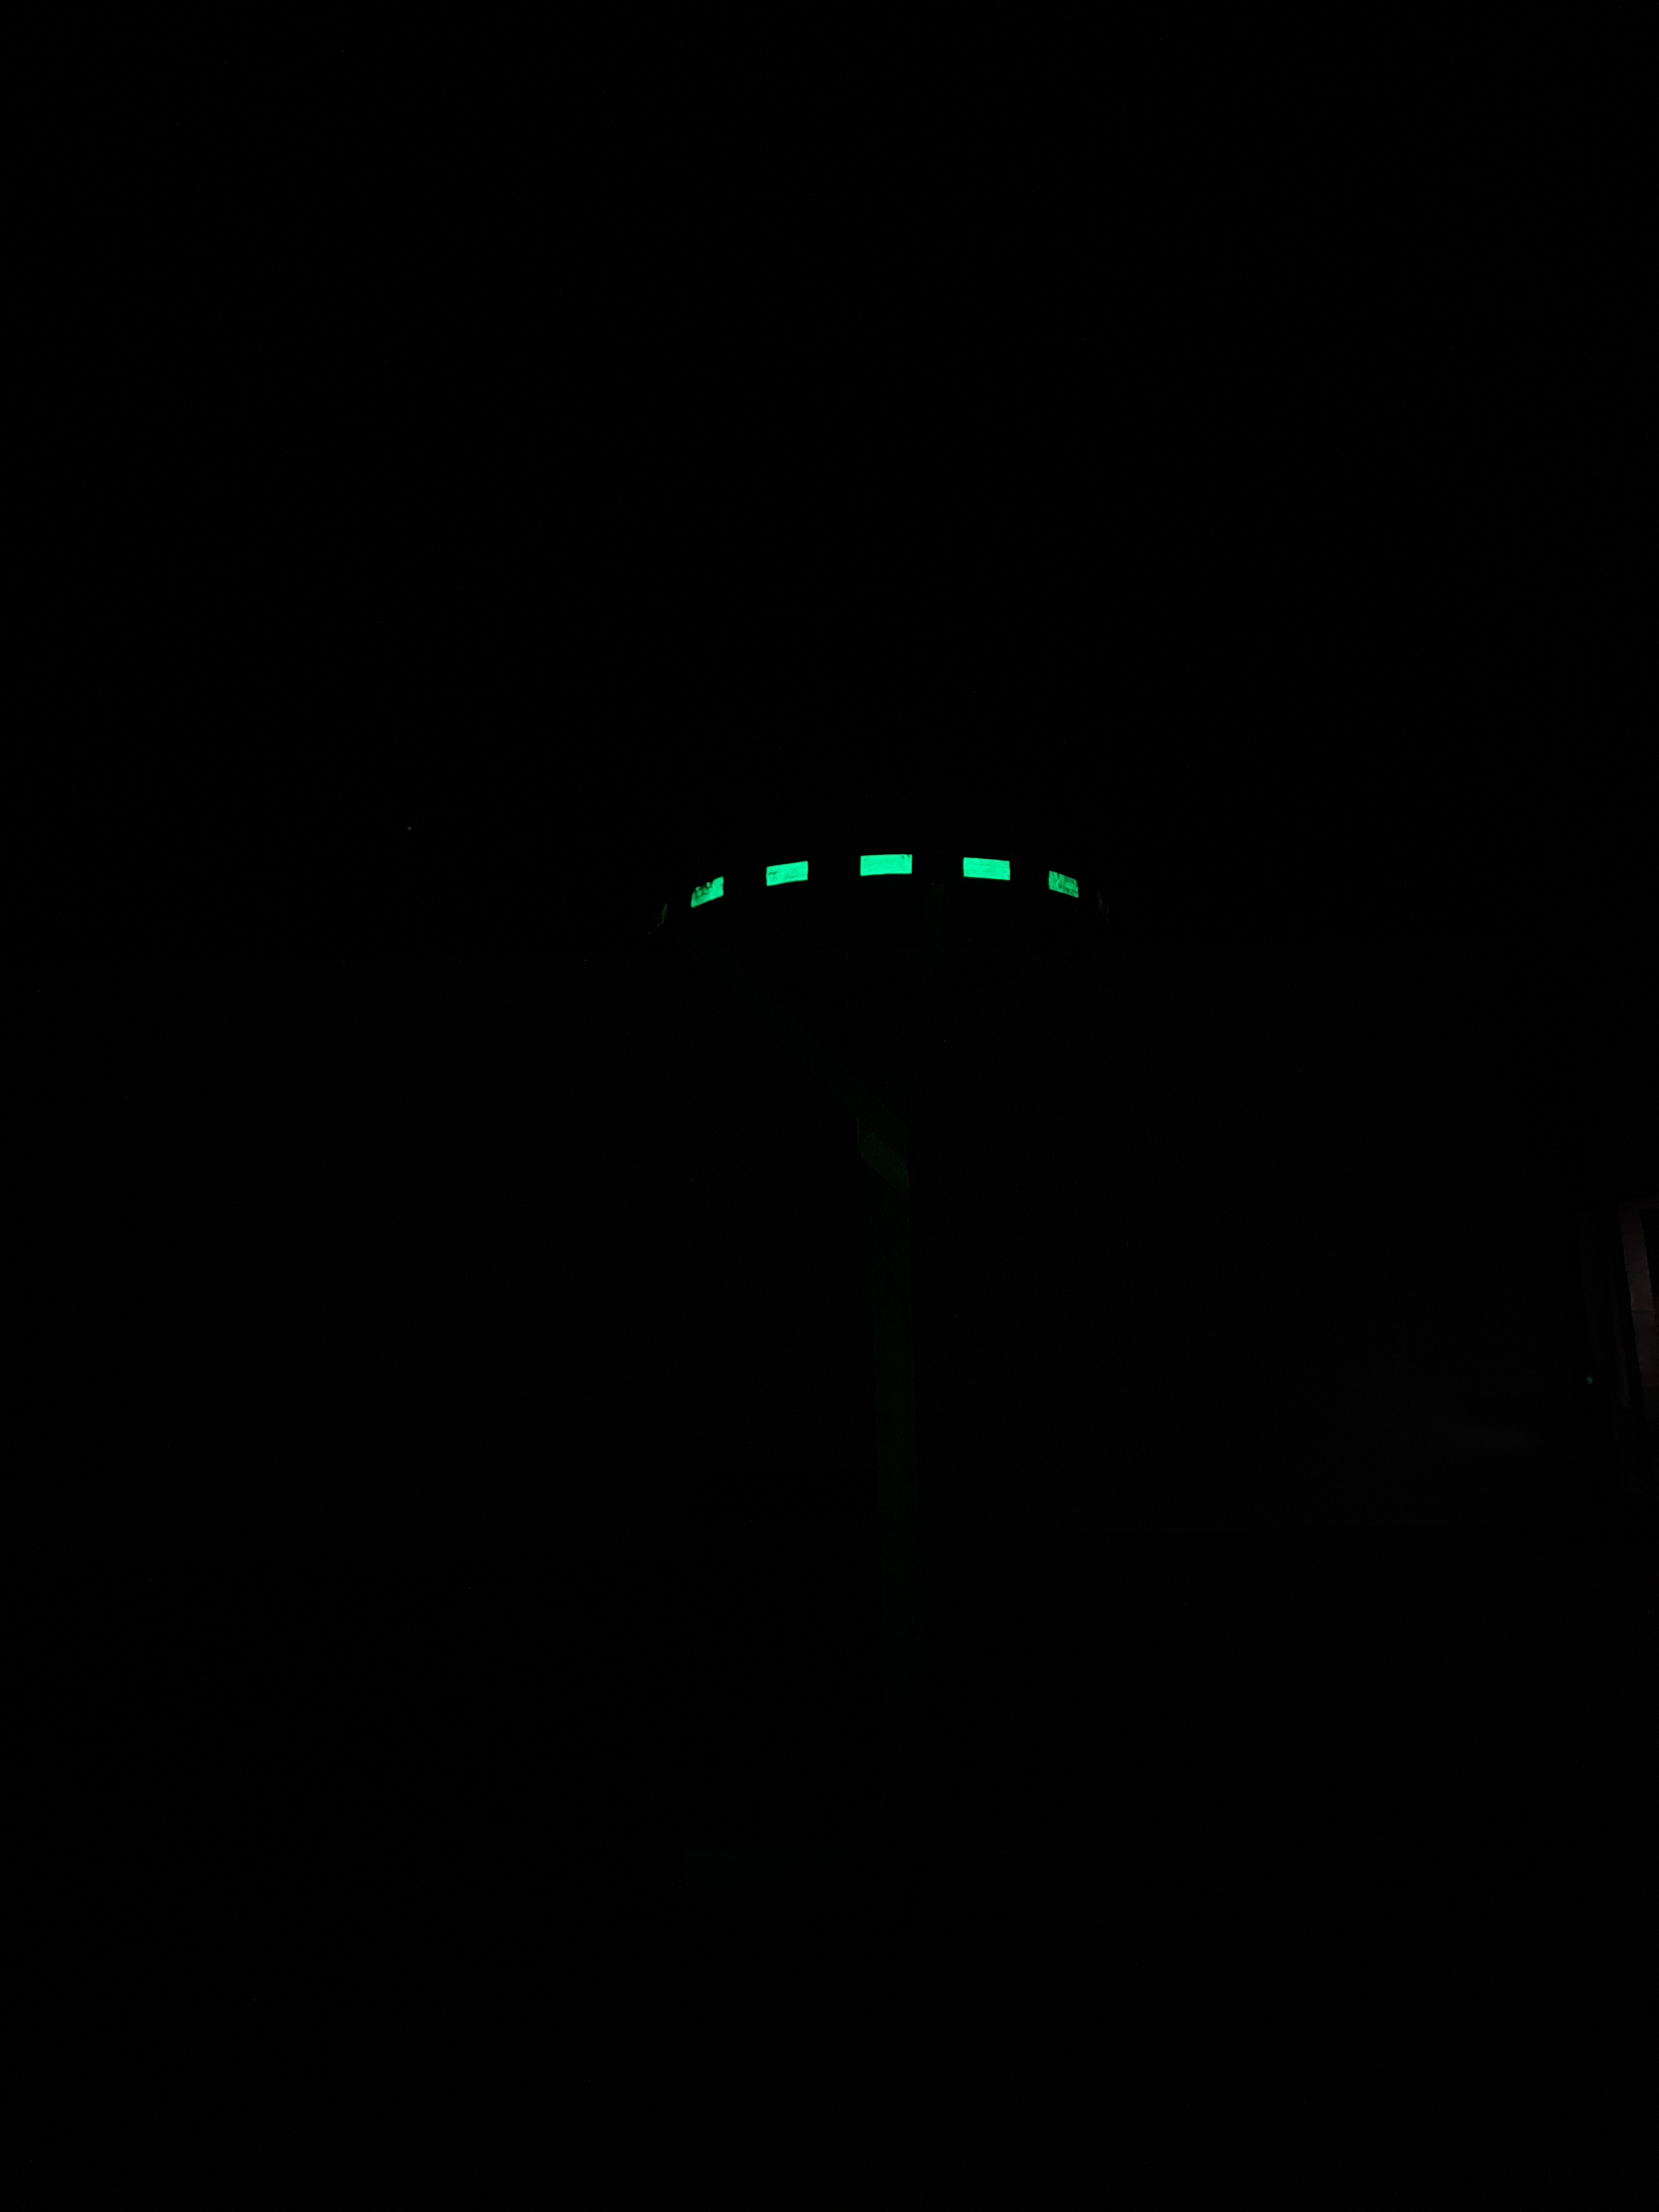hoop: (685, 848, 1084, 909)
